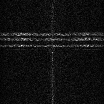wifi: (1, 33, 104, 35), (1, 38, 104, 40), (1, 45, 104, 47)
